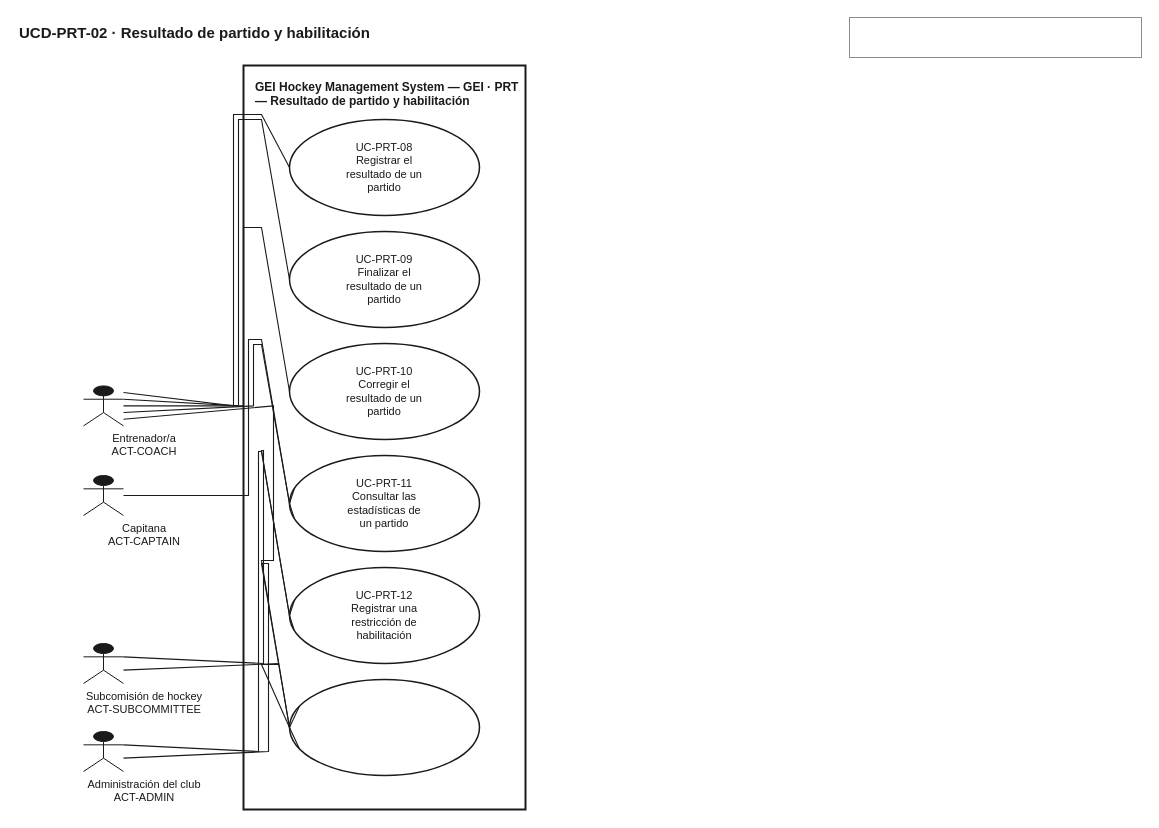
Image size: 1159x828. Some labels were removed from this diagram. Here are the shapes that lost their labels. From the top down, the centre of each, then its label:
At (x=995, y=37): "UC-PRT-10 es CU hermano de UC-PRT-09: no hay include ni extend.".
At (x=384, y=727): "UC-PRT-13 Consultar el estado de habilitación de una jugadora".
